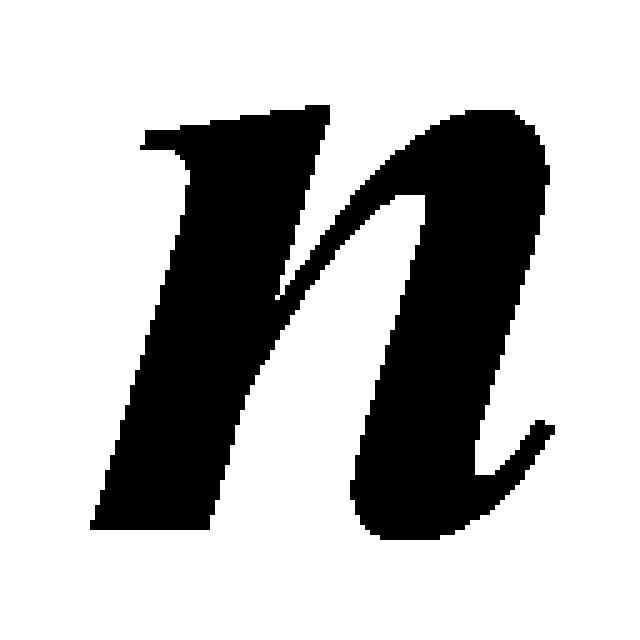N: (92, 121, 585, 545)
